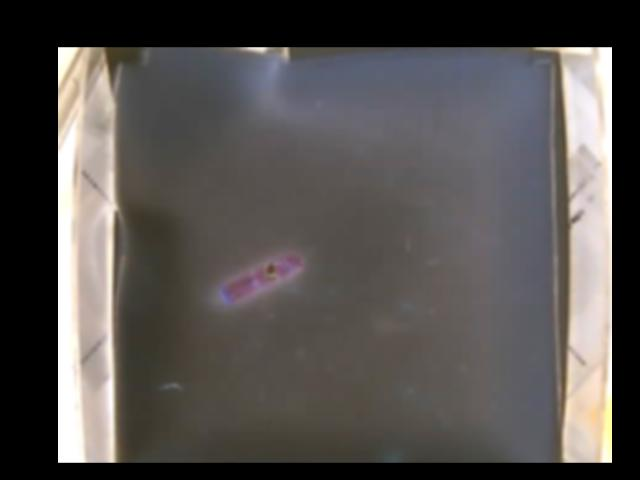Battery: (221, 251, 304, 302)
